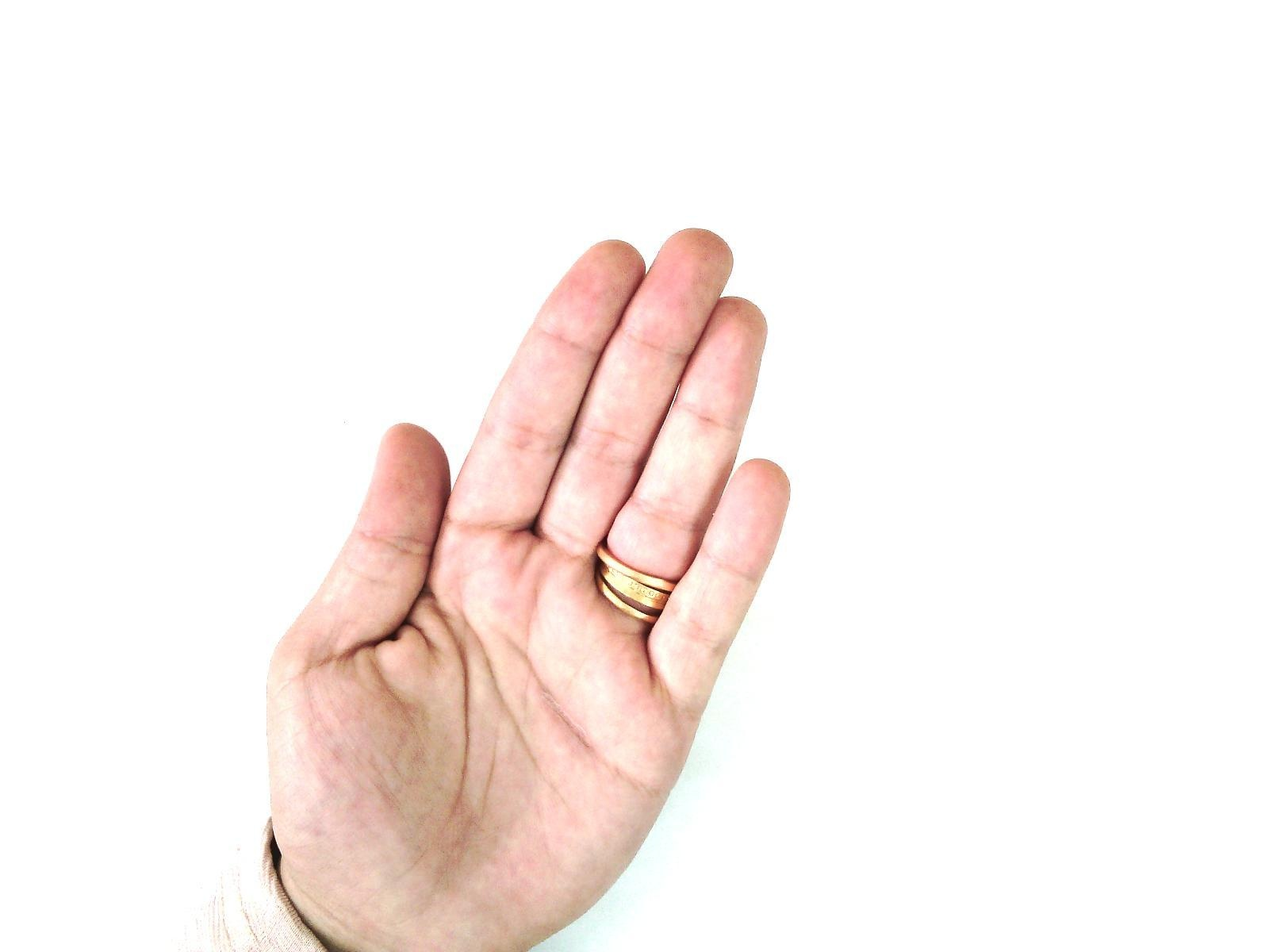open_palm: (261, 226, 794, 951)
